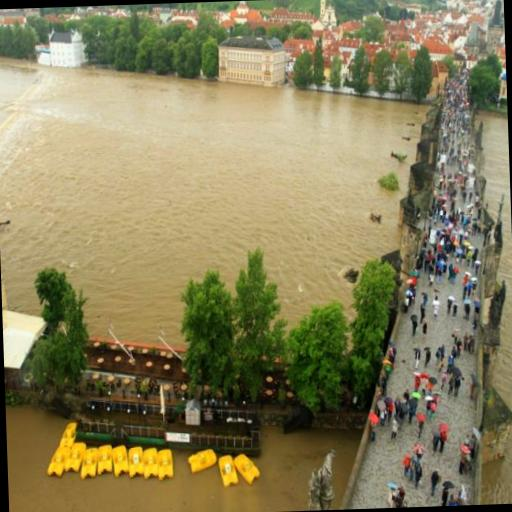flood: (0, 57, 427, 344), (5, 408, 359, 512), (482, 112, 512, 408)
house: (220, 36, 288, 90), (36, 25, 86, 68), (0, 147, 11, 309), (270, 4, 313, 24), (227, 0, 263, 23), (425, 37, 451, 62), (319, 0, 337, 23), (498, 68, 506, 104)
